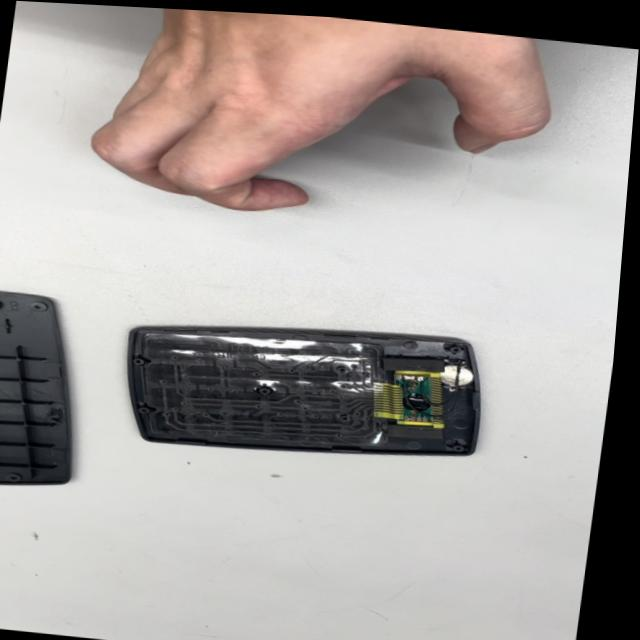front_panel: (101, 307, 499, 486)
